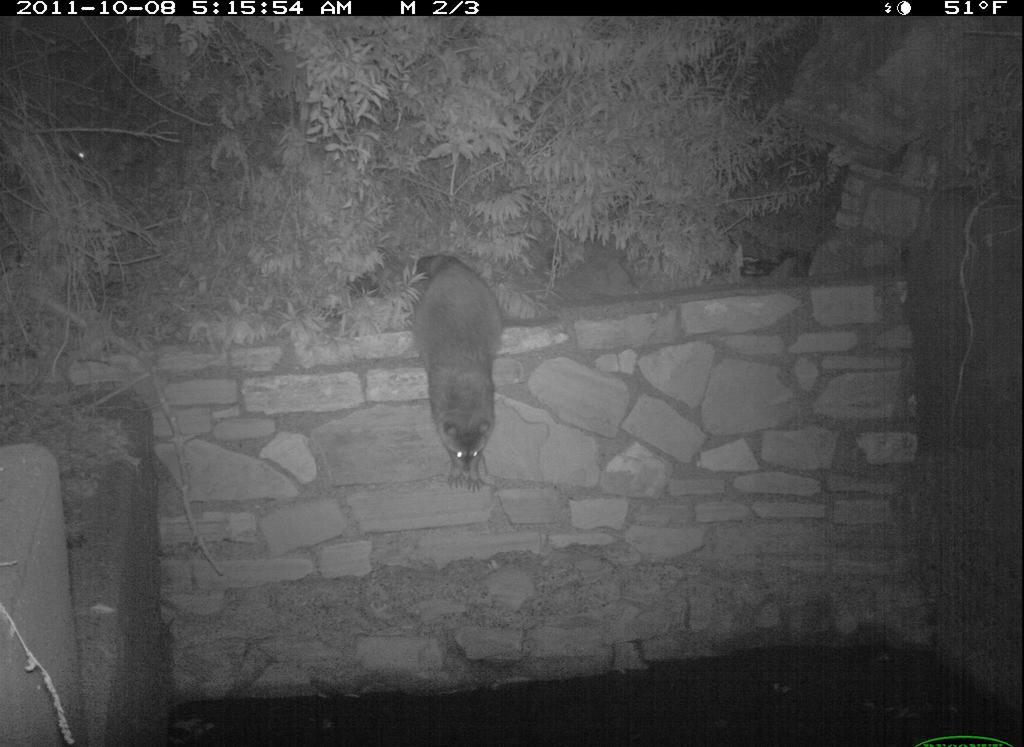raccoon: (391, 235, 538, 489)
